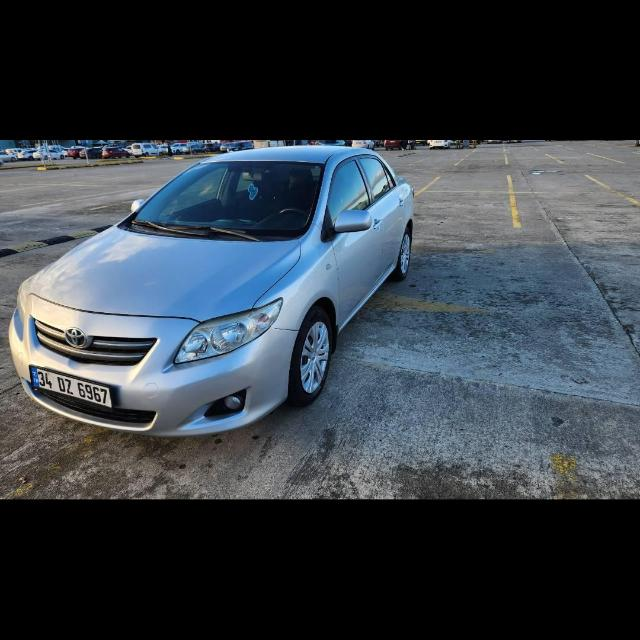Plaka: (31, 367, 108, 407)
